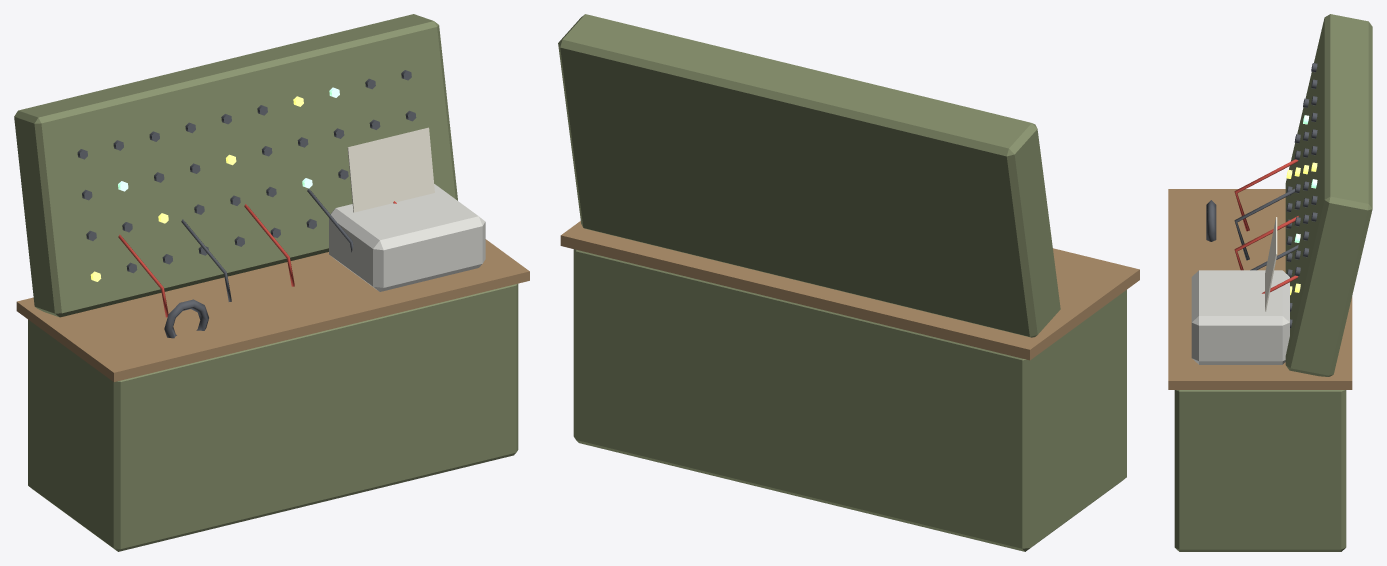
The model's file is signals_desk.glb.
3 views of the same model, side by side, from view 1: azimuth 30°, elevation 25°; view 2: azimuth 150°, elevation 25°; view 3: azimuth 270°, elevation 25° (orthographic). The views are drawn at different scales.
Parts seen in each view (by area): view 1: signals_desk; view 2: signals_desk; view 3: signals_desk.
Boxes of the visible parts, left/top/right/bottom form: signals_desk: left=14, top=14, right=529, bottom=551; signals_desk: left=558, top=14, right=1139, bottom=551; signals_desk: left=1168, top=14, right=1372, bottom=551.
Bounding box in the file's own units: 1.85 × 1.6 × 0.8318.
